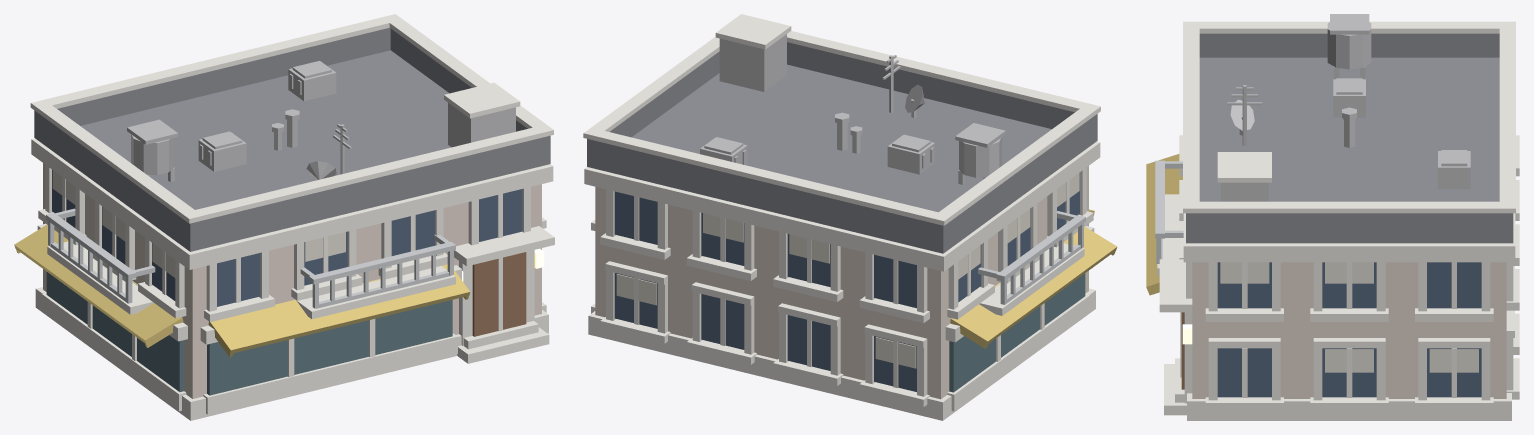
File: bld_3_2.glb
3 renders of one model, left to right at view 1: azimuth 30°, elevation 25°; view 2: azimuth 150°, elevation 25°; view 3: azimuth 270°, elevation 25°, orthographic. The views are drawn at different scales.
Parts seen in each view (by area): view 1: trim, rf, shop, awn, ac, w, win, rail, door, blind; view 2: trim, rf, w, win, ac, blind, awn, shop, rail; view 3: rf, trim, w, win, ac, blind, awn, rail.
Part boxes in pixels (x1,y1,x2,y2): trim: (30, 14, 554, 420); rf: (34, 27, 550, 251); shop: (46, 272, 452, 395); awn: (14, 224, 470, 357); ac: (127, 61, 515, 182); w: (43, 163, 541, 398); win: (52, 169, 522, 306); rail: (46, 208, 455, 308); door: (472, 252, 526, 336); blind: (52, 170, 345, 277); trim: (583, 14, 1100, 420); rf: (587, 42, 1097, 253); w: (595, 166, 1088, 399); win: (614, 172, 1079, 391); ac: (700, 34, 1005, 184); blind: (616, 173, 1079, 368); awn: (950, 209, 1117, 348); shop: (949, 273, 1085, 392); rail: (978, 211, 1085, 304); rf: (1186, 33, 1513, 243); trim: (1157, 21, 1519, 420); w: (1192, 262, 1506, 398); win: (1217, 262, 1481, 397); ac: (1220, 14, 1470, 201); blind: (1220, 262, 1478, 372); awn: (1146, 154, 1182, 295); rail: (1155, 160, 1183, 263).
Size of the model in its own units: 4.42 by 2.46 by 3.42.
